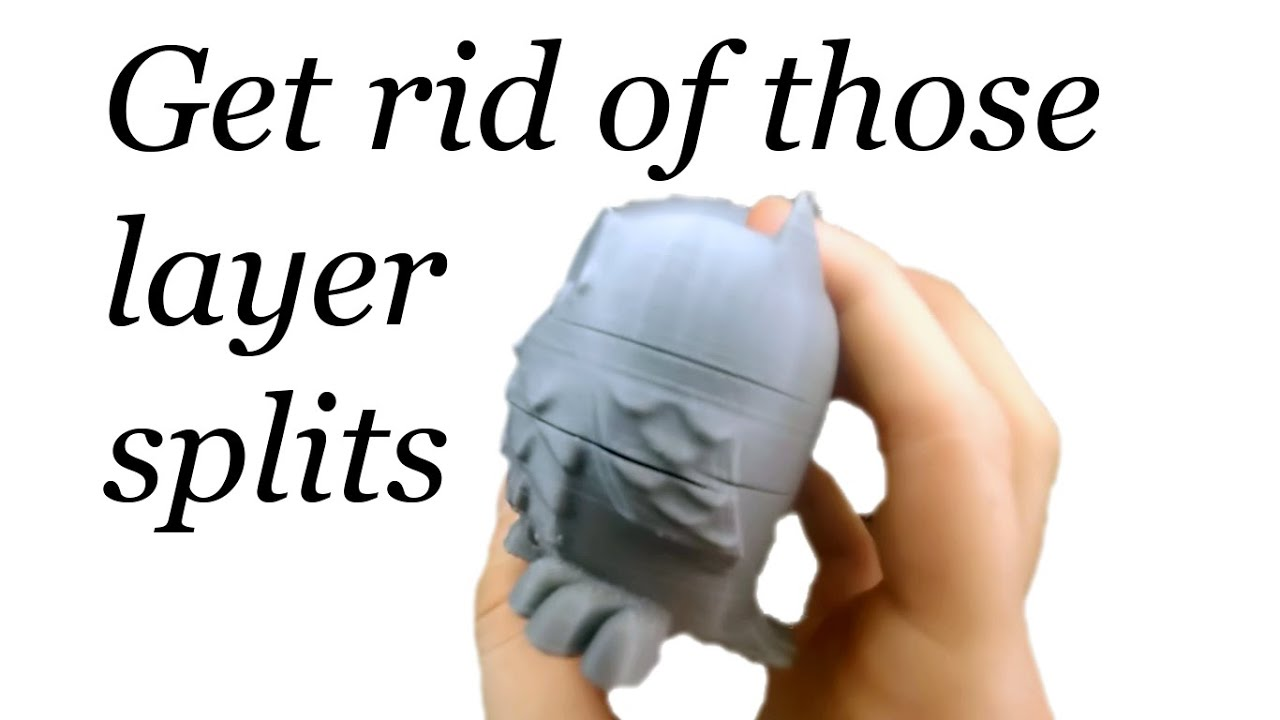crack: (496, 406, 819, 585), (528, 292, 796, 463)
